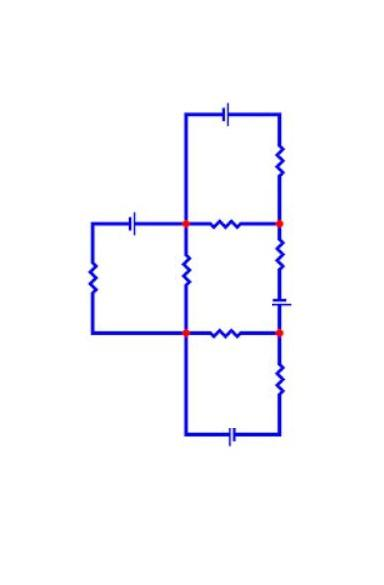resistor: (200, 202, 259, 239), (204, 315, 265, 348), (267, 349, 303, 403), (265, 126, 297, 185), (262, 220, 292, 273), (87, 245, 110, 300)
